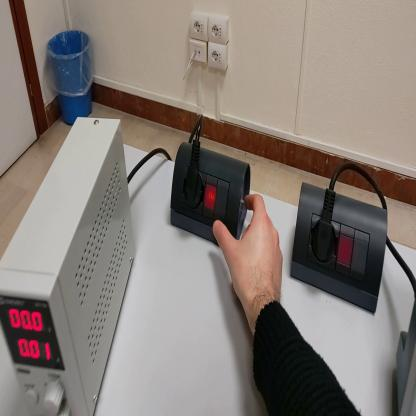hand: (214, 192, 286, 312)
oscilloscope: (399, 295, 416, 416)
power supply: (2, 116, 136, 415)
socket: (292, 183, 388, 316), (170, 143, 251, 249)
